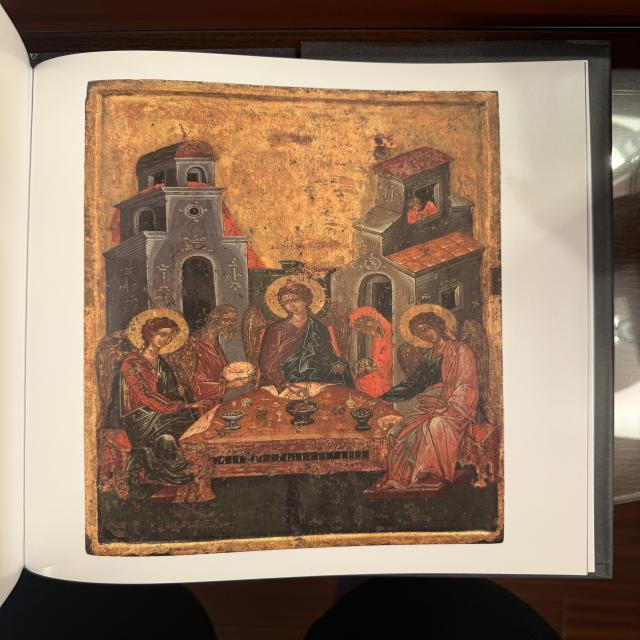angel: (367, 293, 496, 497), (97, 303, 195, 503), (237, 264, 349, 396)
aura: (266, 275, 328, 323), (129, 309, 189, 357), (399, 305, 461, 349)
chalice: (281, 399, 322, 427), (216, 409, 251, 435), (224, 362, 258, 386), (354, 406, 376, 433)
scepter: (400, 301, 482, 487)
wing: (458, 318, 498, 429), (317, 302, 358, 383), (93, 333, 125, 431), (243, 305, 267, 362), (171, 344, 199, 380), (397, 344, 421, 372)
